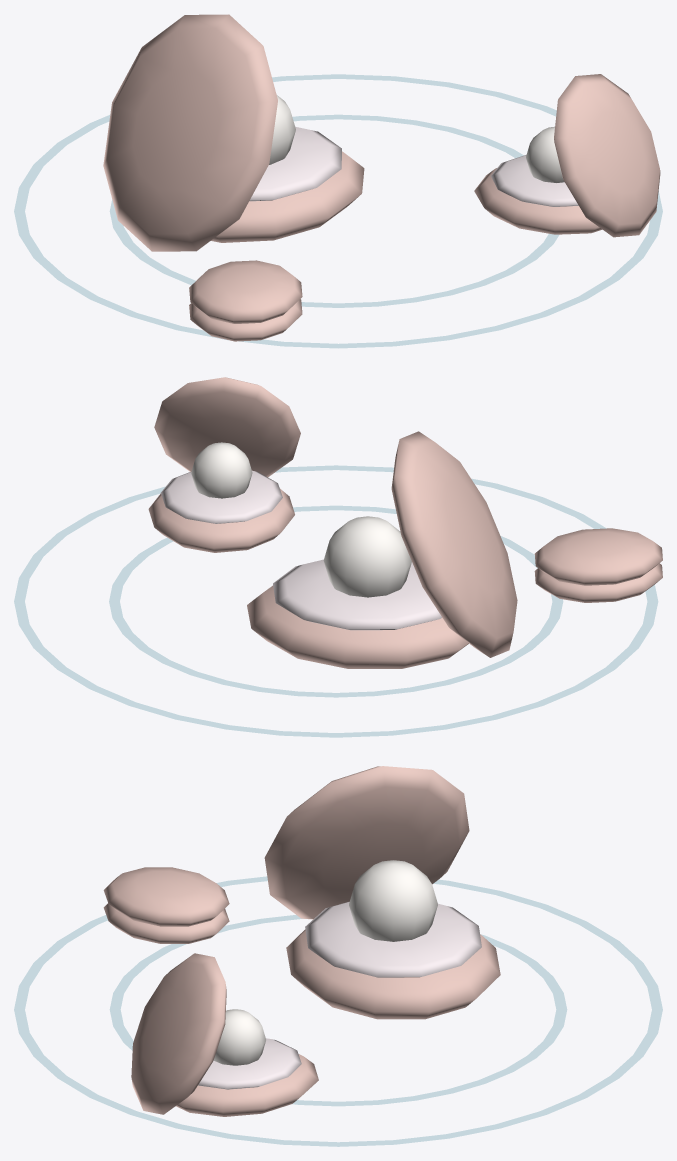
The model's file is resource_pearls.fbx.
3 renders of one model, top to bottom at view 1: azimuth 30°, elevation 25°; view 2: azimuth 150°, elevation 25°; view 3: azimuth 270°, elevation 25°, orthographic.
Parts seen in each view (by area): view 1: resource_pearls_shell_01, resource_pearls_foam_ring.002_00, resource_pearls_nacre_02, resource_pearls_pearl_03; view 2: resource_pearls_shell_01, resource_pearls_foam_ring.002_00, resource_pearls_nacre_02, resource_pearls_pearl_03; view 3: resource_pearls_shell_01, resource_pearls_foam_ring.002_00, resource_pearls_nacre_02, resource_pearls_pearl_03.
Boxes of the visible parts, <box> form: resource_pearls_shell_01: <box>103,14,660,341</box>; resource_pearls_foam_ring.002_00: <box>14,74,662,348</box>; resource_pearls_nacre_02: <box>249,127,578,206</box>; resource_pearls_pearl_03: <box>269,95,564,182</box>; resource_pearls_shell_01: <box>148,377,662,668</box>; resource_pearls_foam_ring.002_00: <box>14,465,658,737</box>; resource_pearls_nacre_02: <box>161,470,441,630</box>; resource_pearls_pearl_03: <box>191,442,411,597</box>; resource_pearls_shell_01: <box>103,766,500,1116</box>; resource_pearls_foam_ring.002_00: <box>14,876,662,1146</box>; resource_pearls_nacre_02: <box>198,901,481,1089</box>; resource_pearls_pearl_03: <box>213,860,437,1065</box>.
Bounding box in the file's own units: 94.4 × 33.77 × 94.4.
